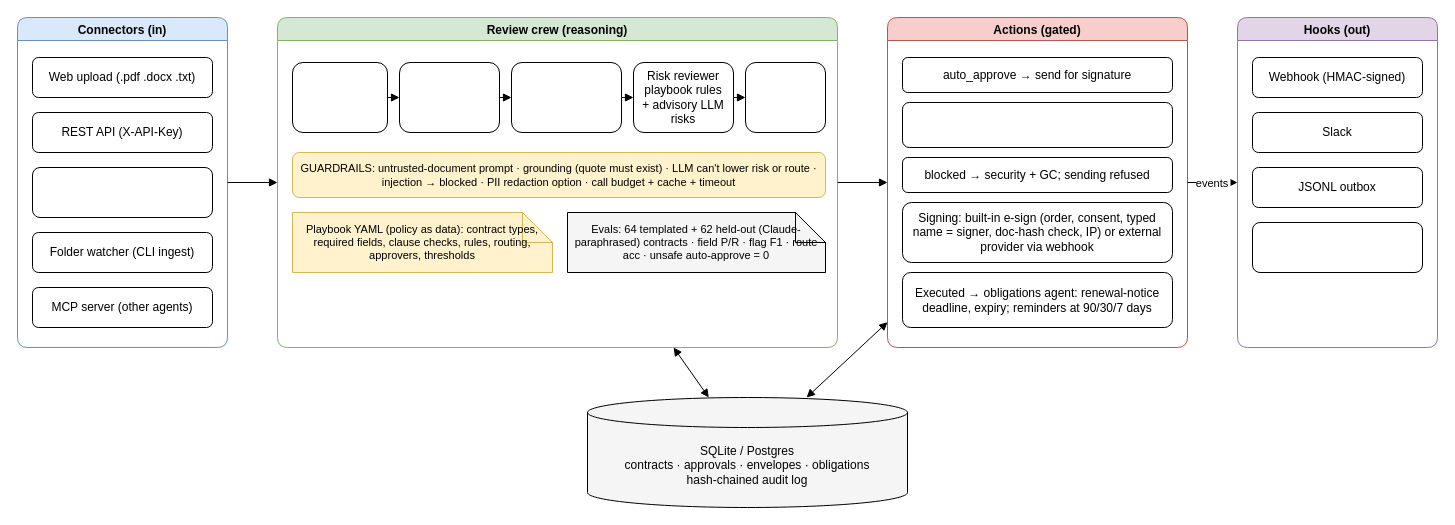
Some shapes in this 1455 by 525 pixel diagram are drawn without their labels. Here are the shapes that lost their labels. From the top down, the centre of each, then its label:
At point 340,97: "Intake text, SHA-256, injection scan".
At point 449,97: "Classifier playbook keywords (+LLM if unsure)".
At point 566,97: "Extractor rules + 1× claude -p value + verbatim quote".
At point 785,97: "Router policy only".
At point 1037,125: "review → approval tasks (legal / GC / finance) → human decides".
At point 122,192: "Signed webhook (HMAC) CRM / Drive / e-mail relays".
At point 1337,247: "Portfolio Q&A (LLM → filter → DB rows)".
